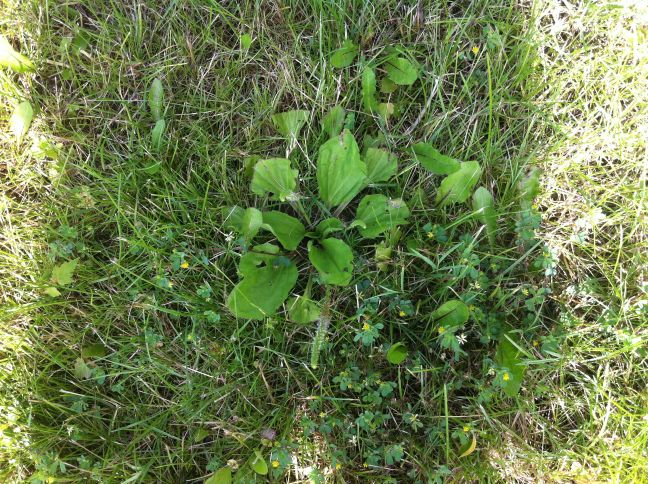weed1: (222, 134, 415, 329)
